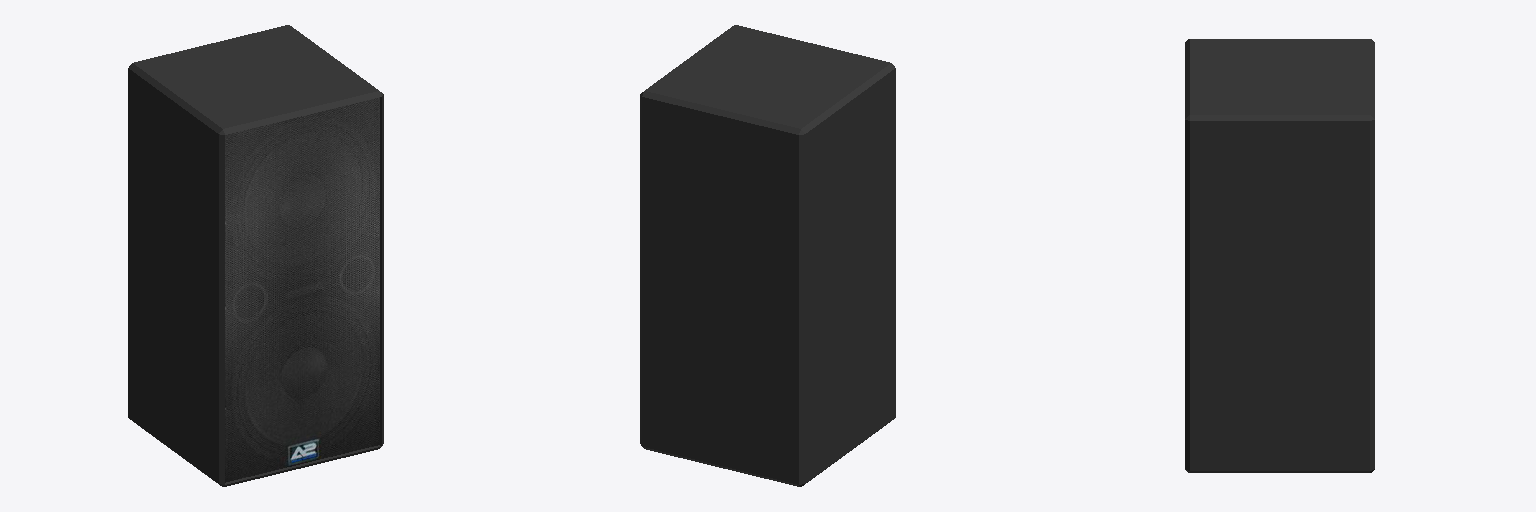
3 views of the same model, side by side, from view 1: azimuth 30°, elevation 25°; view 2: azimuth 150°, elevation 25°; view 3: azimuth 270°, elevation 25° (orthographic).
Parts seen in each view (by area): view 1: pCube1; view 2: pCube1; view 3: pCube1.
Boxes of the visible parts, <box> form: pCube1: <box>128,25,383,486</box>; pCube1: <box>640,25,895,486</box>; pCube1: <box>1185,39,1374,472</box>.
Size of the model in its own units: 2.75 by 5.71 by 2.75.
Materials: 1 (1 with a texture image).